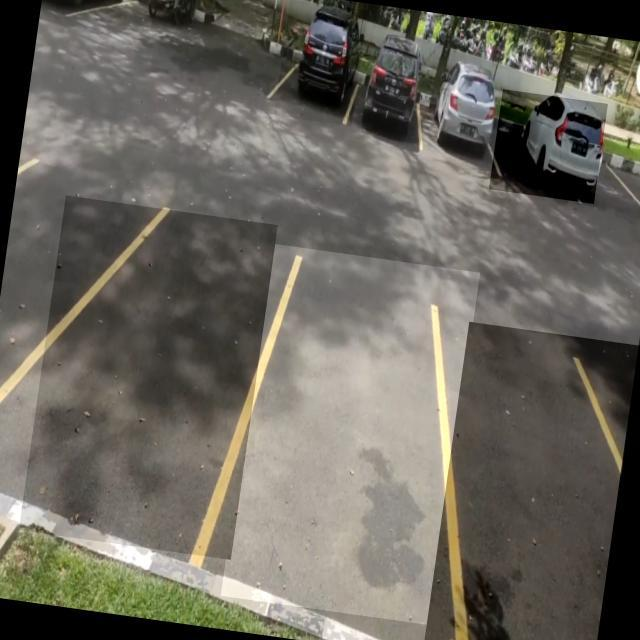empty: (221, 244, 480, 626), (19, 196, 278, 560), (422, 321, 640, 640)
occupied: (489, 89, 608, 204), (274, 0, 368, 126), (344, 26, 436, 150), (414, 58, 508, 168)
